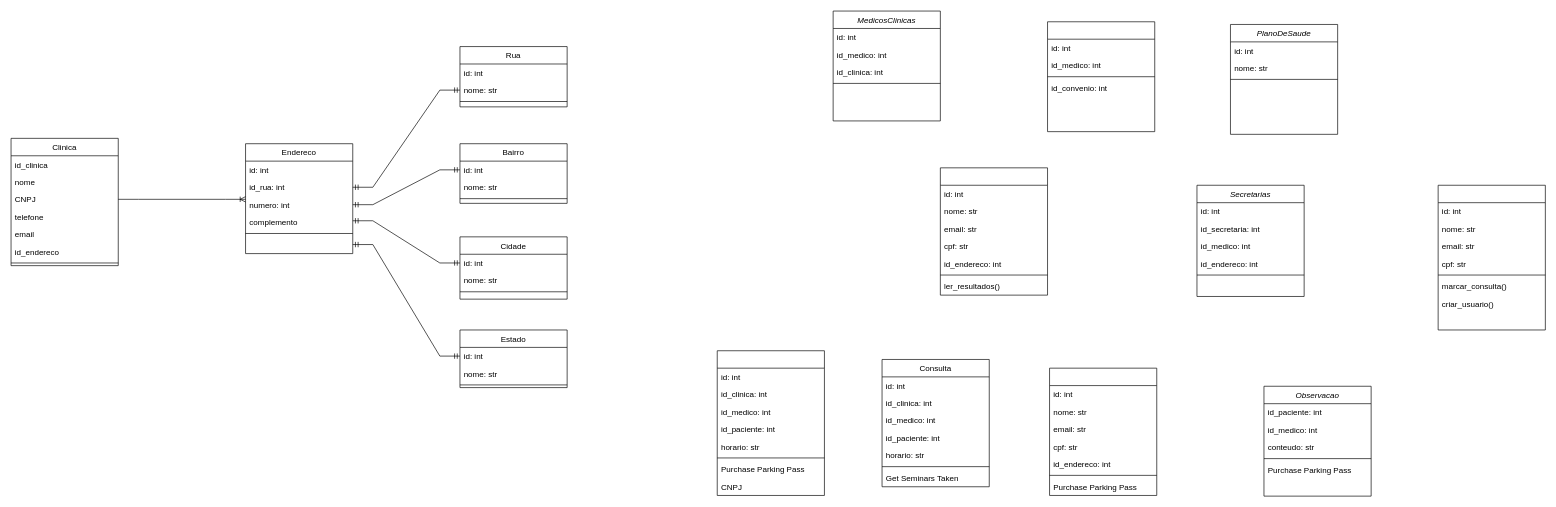
This 1556x507 diagram has some shape labels left out. Each missing label, with the box of its shape:
Exame: (717, 350, 824, 495)
Medico: (940, 167, 1048, 295)
MedicosPlanosDeSaude: (1047, 21, 1155, 132)
Paciente: (1049, 367, 1157, 495)
Secretaria: (1437, 185, 1545, 330)
